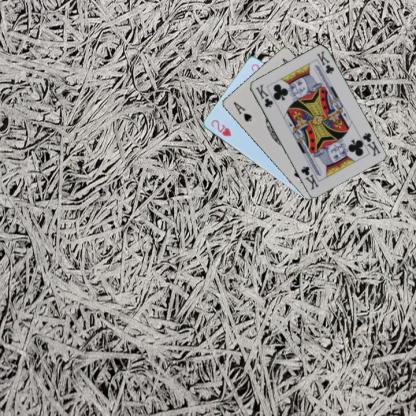2h: (208, 116, 232, 138)
As: (231, 99, 253, 123)
Kc: (360, 130, 382, 158), (253, 82, 274, 108)
